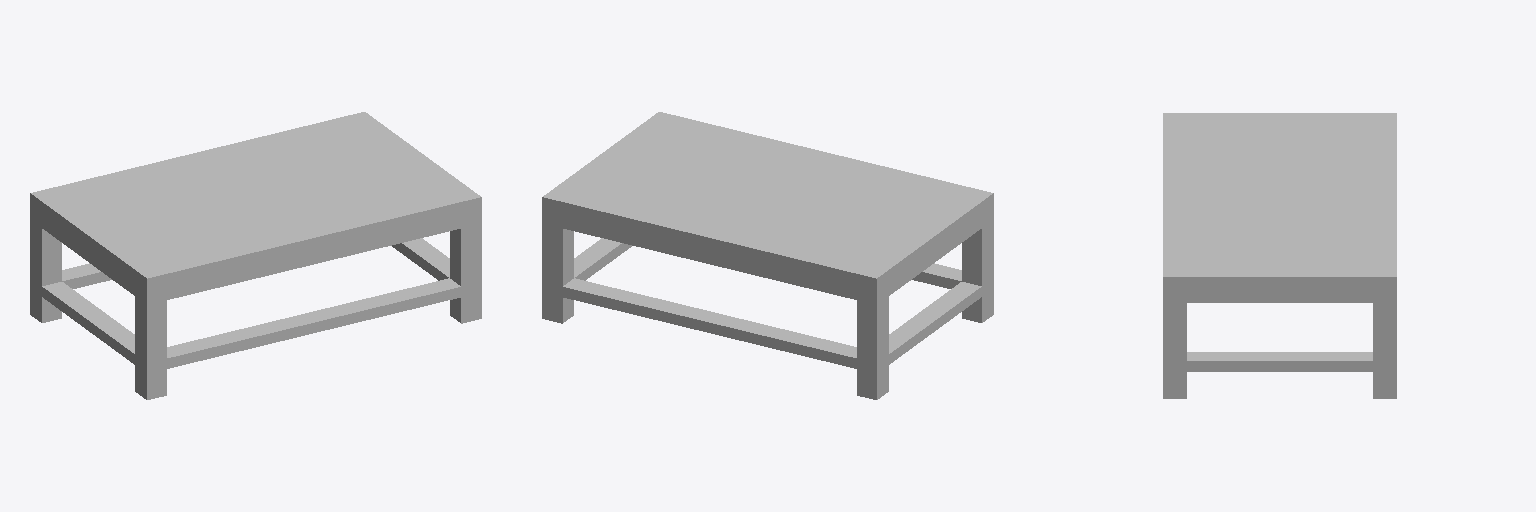
File: tableCoffeeGlass.obj
The picture shows the model from 3 angles: view 1: azimuth 30°, elevation 25°; view 2: azimuth 150°, elevation 25°; view 3: azimuth 270°, elevation 25°; orthographic projection.
Visible parts, largest first — view 1: tableCoffeeGlass; view 2: tableCoffeeGlass; view 3: tableCoffeeGlass.
Boxes of the visible parts, x1,y1,x2,y2 form: tableCoffeeGlass: [30, 112, 481, 399]; tableCoffeeGlass: [542, 112, 993, 399]; tableCoffeeGlass: [1163, 113, 1396, 398].
Size of the model in its own units: 0.661 by 0.23 by 0.4.